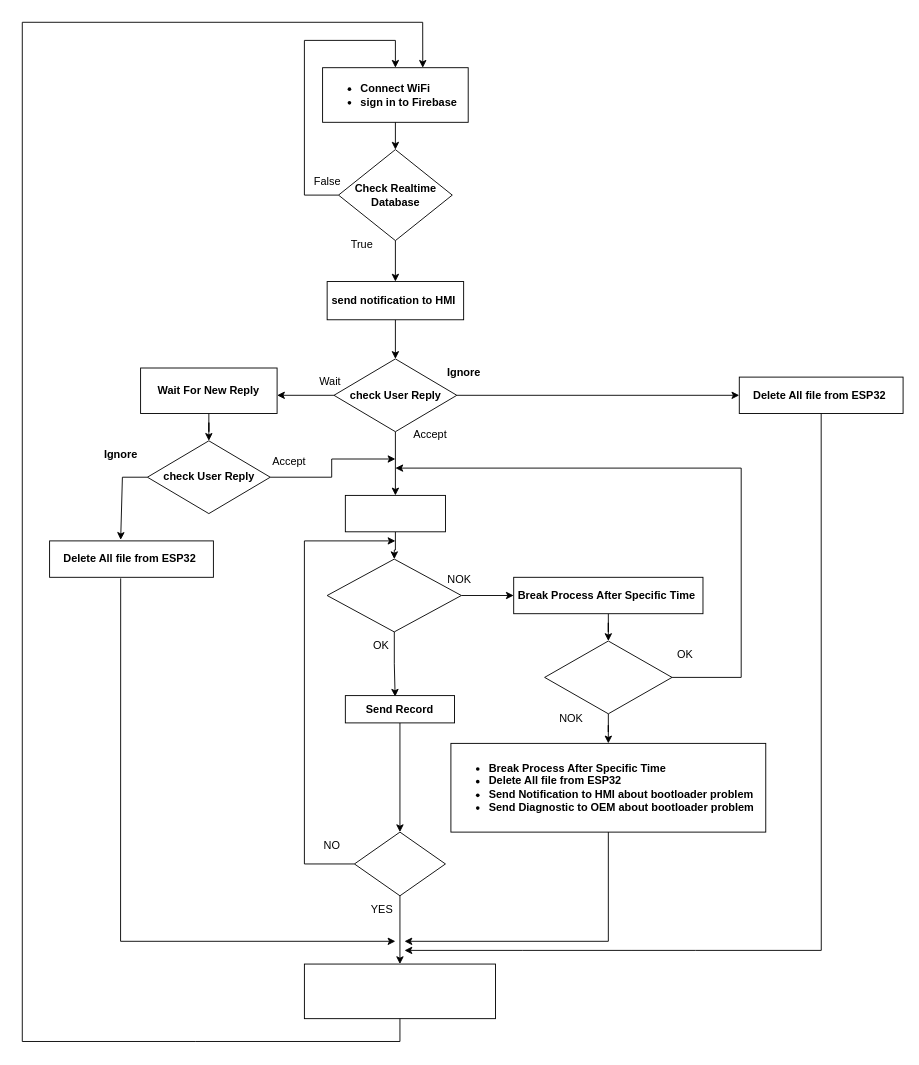
Image size: 919x1065. Some labels were removed from this diagram. The box of each missing label's shape, as (x1, y1, x2, y2) in pixels:
File Free: (354, 831, 445, 896)
Parsing HEX File: (344, 494, 445, 532)
Wait Ack from STM: (326, 558, 461, 632)
Wait Ack To Resend: (544, 640, 672, 714)
Write False In Realtime Database Repeat ESP32 Authentication: (303, 963, 495, 1019)
